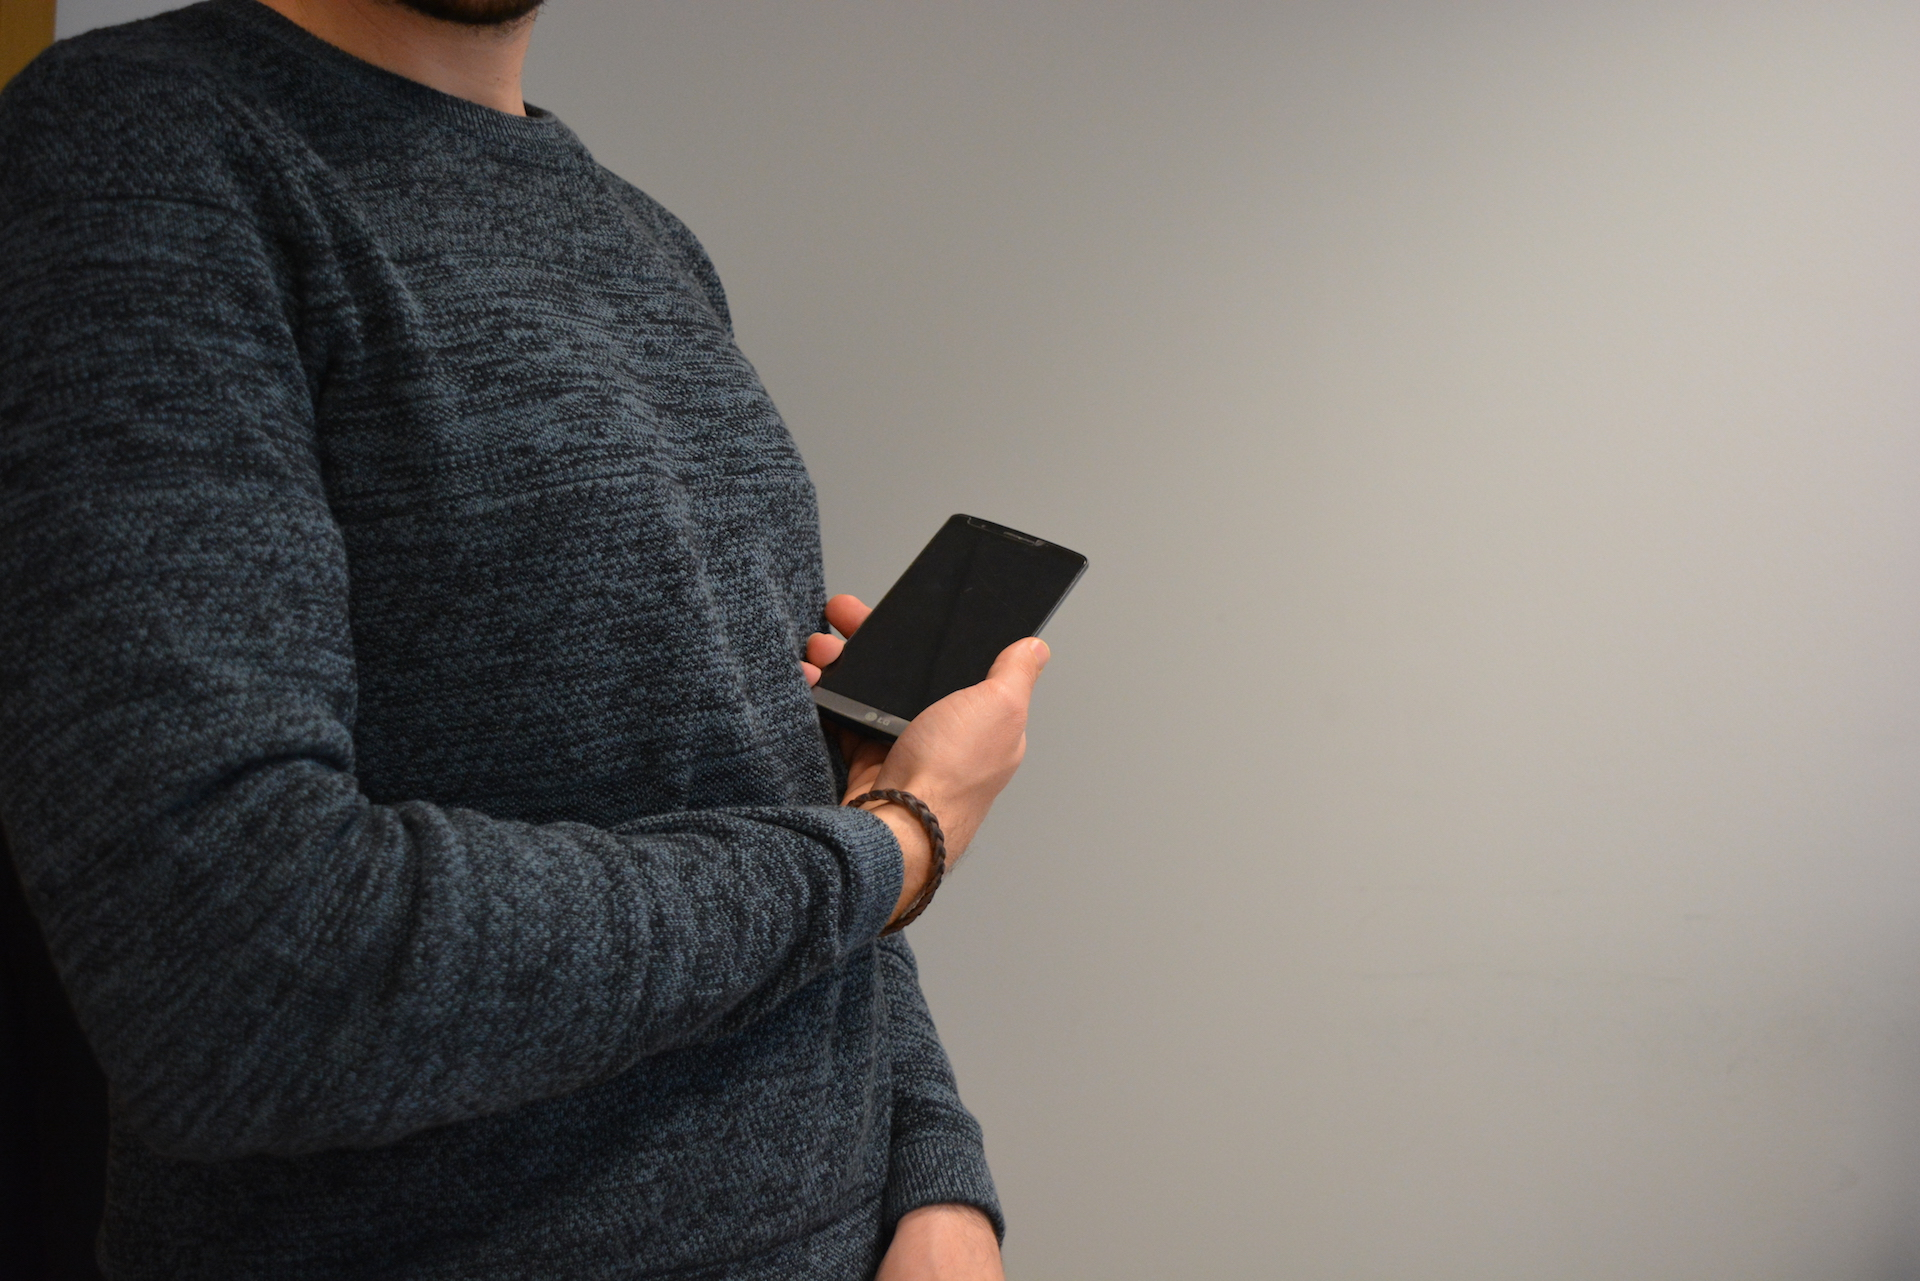smartphone: (808, 513, 1091, 741)
